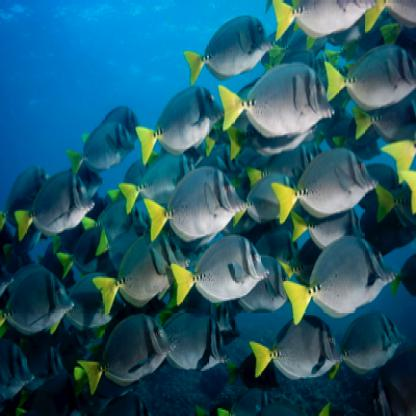Acanthuridae -Surgeonfishes-: (284, 235, 397, 327), (219, 57, 335, 134), (271, 145, 381, 226), (77, 311, 177, 397), (144, 167, 253, 239), (99, 232, 190, 313), (172, 234, 271, 307), (248, 312, 347, 382), (332, 311, 409, 386), (15, 172, 96, 243), (326, 43, 416, 106), (138, 85, 225, 148), (183, 15, 273, 74), (1, 267, 80, 333), (155, 307, 232, 367), (230, 251, 300, 313), (277, 1, 380, 43), (1, 158, 55, 228), (67, 119, 140, 170)
